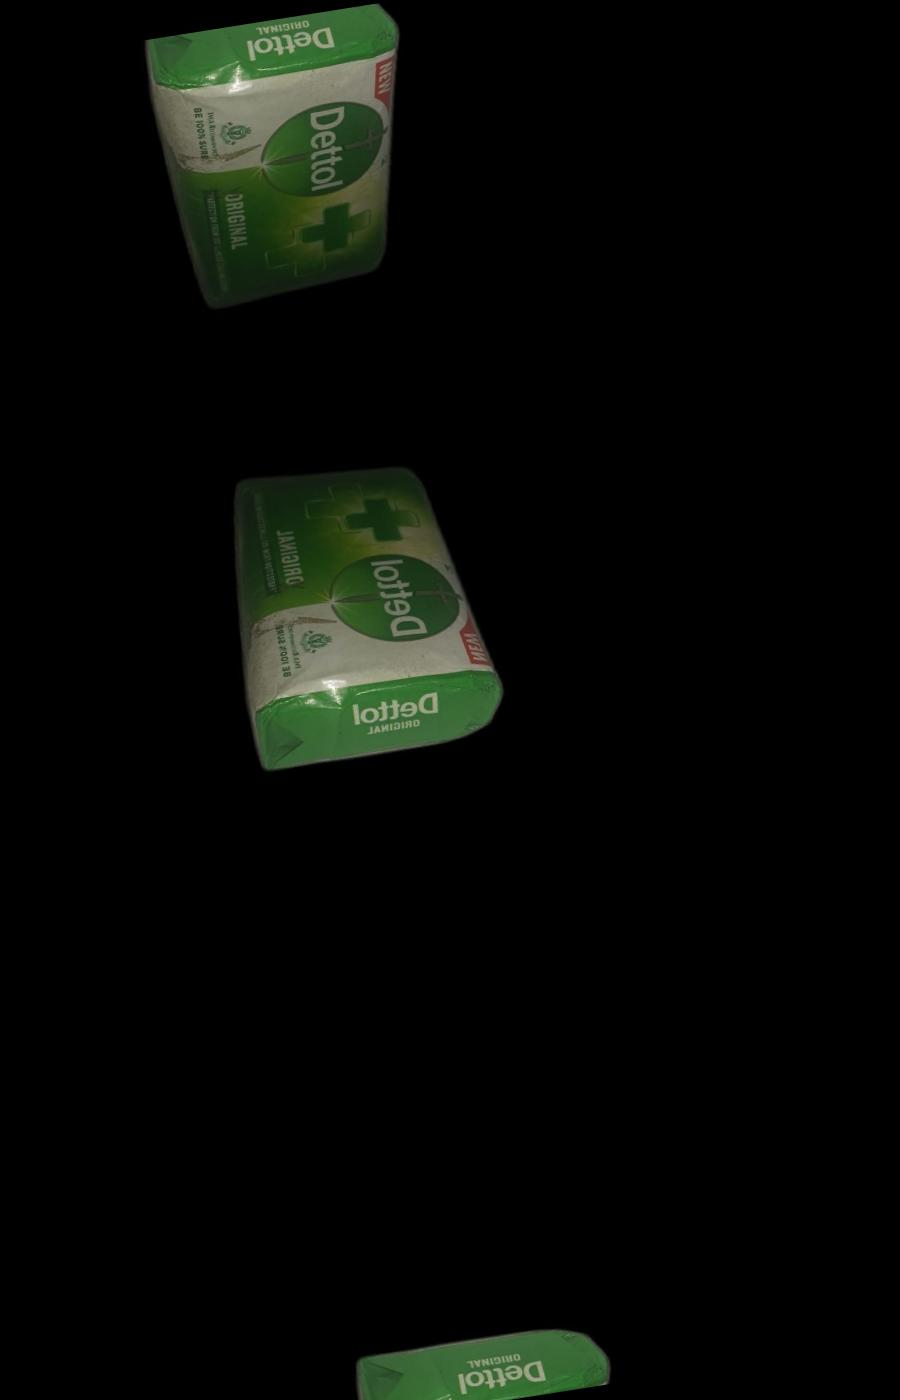Dettol Bathing Soap Bar - Original 125g: (199, 435, 517, 786), (130, 0, 444, 321), (337, 1304, 619, 1400)
